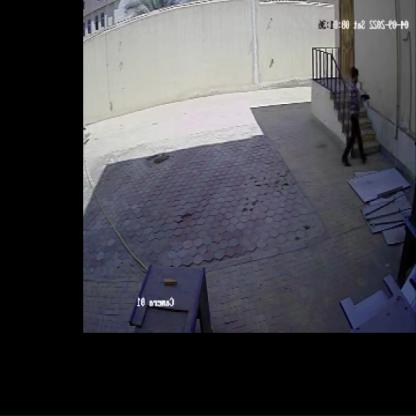handgun: (358, 89, 374, 107)
